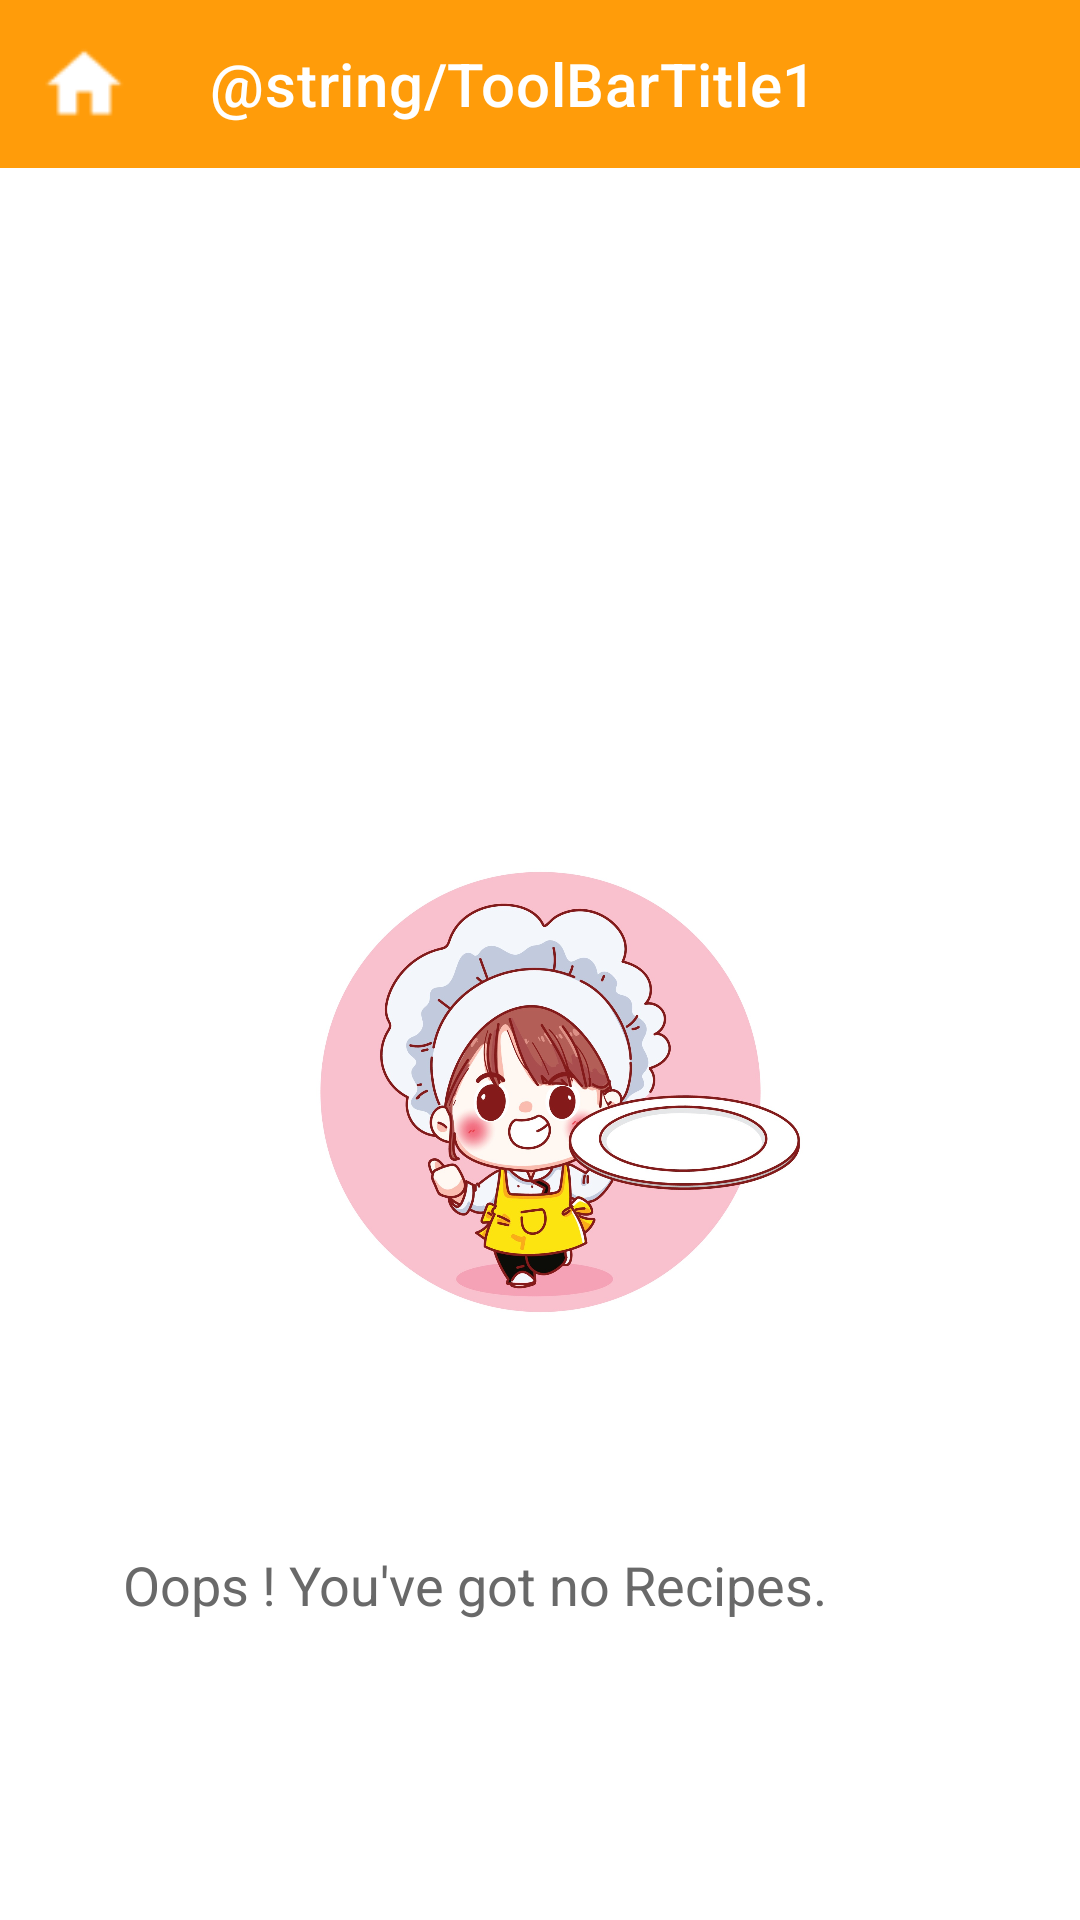

Screen size 1080×1920. Icon name, then its center in pixels as point (x, y):
home: point (83, 83)
